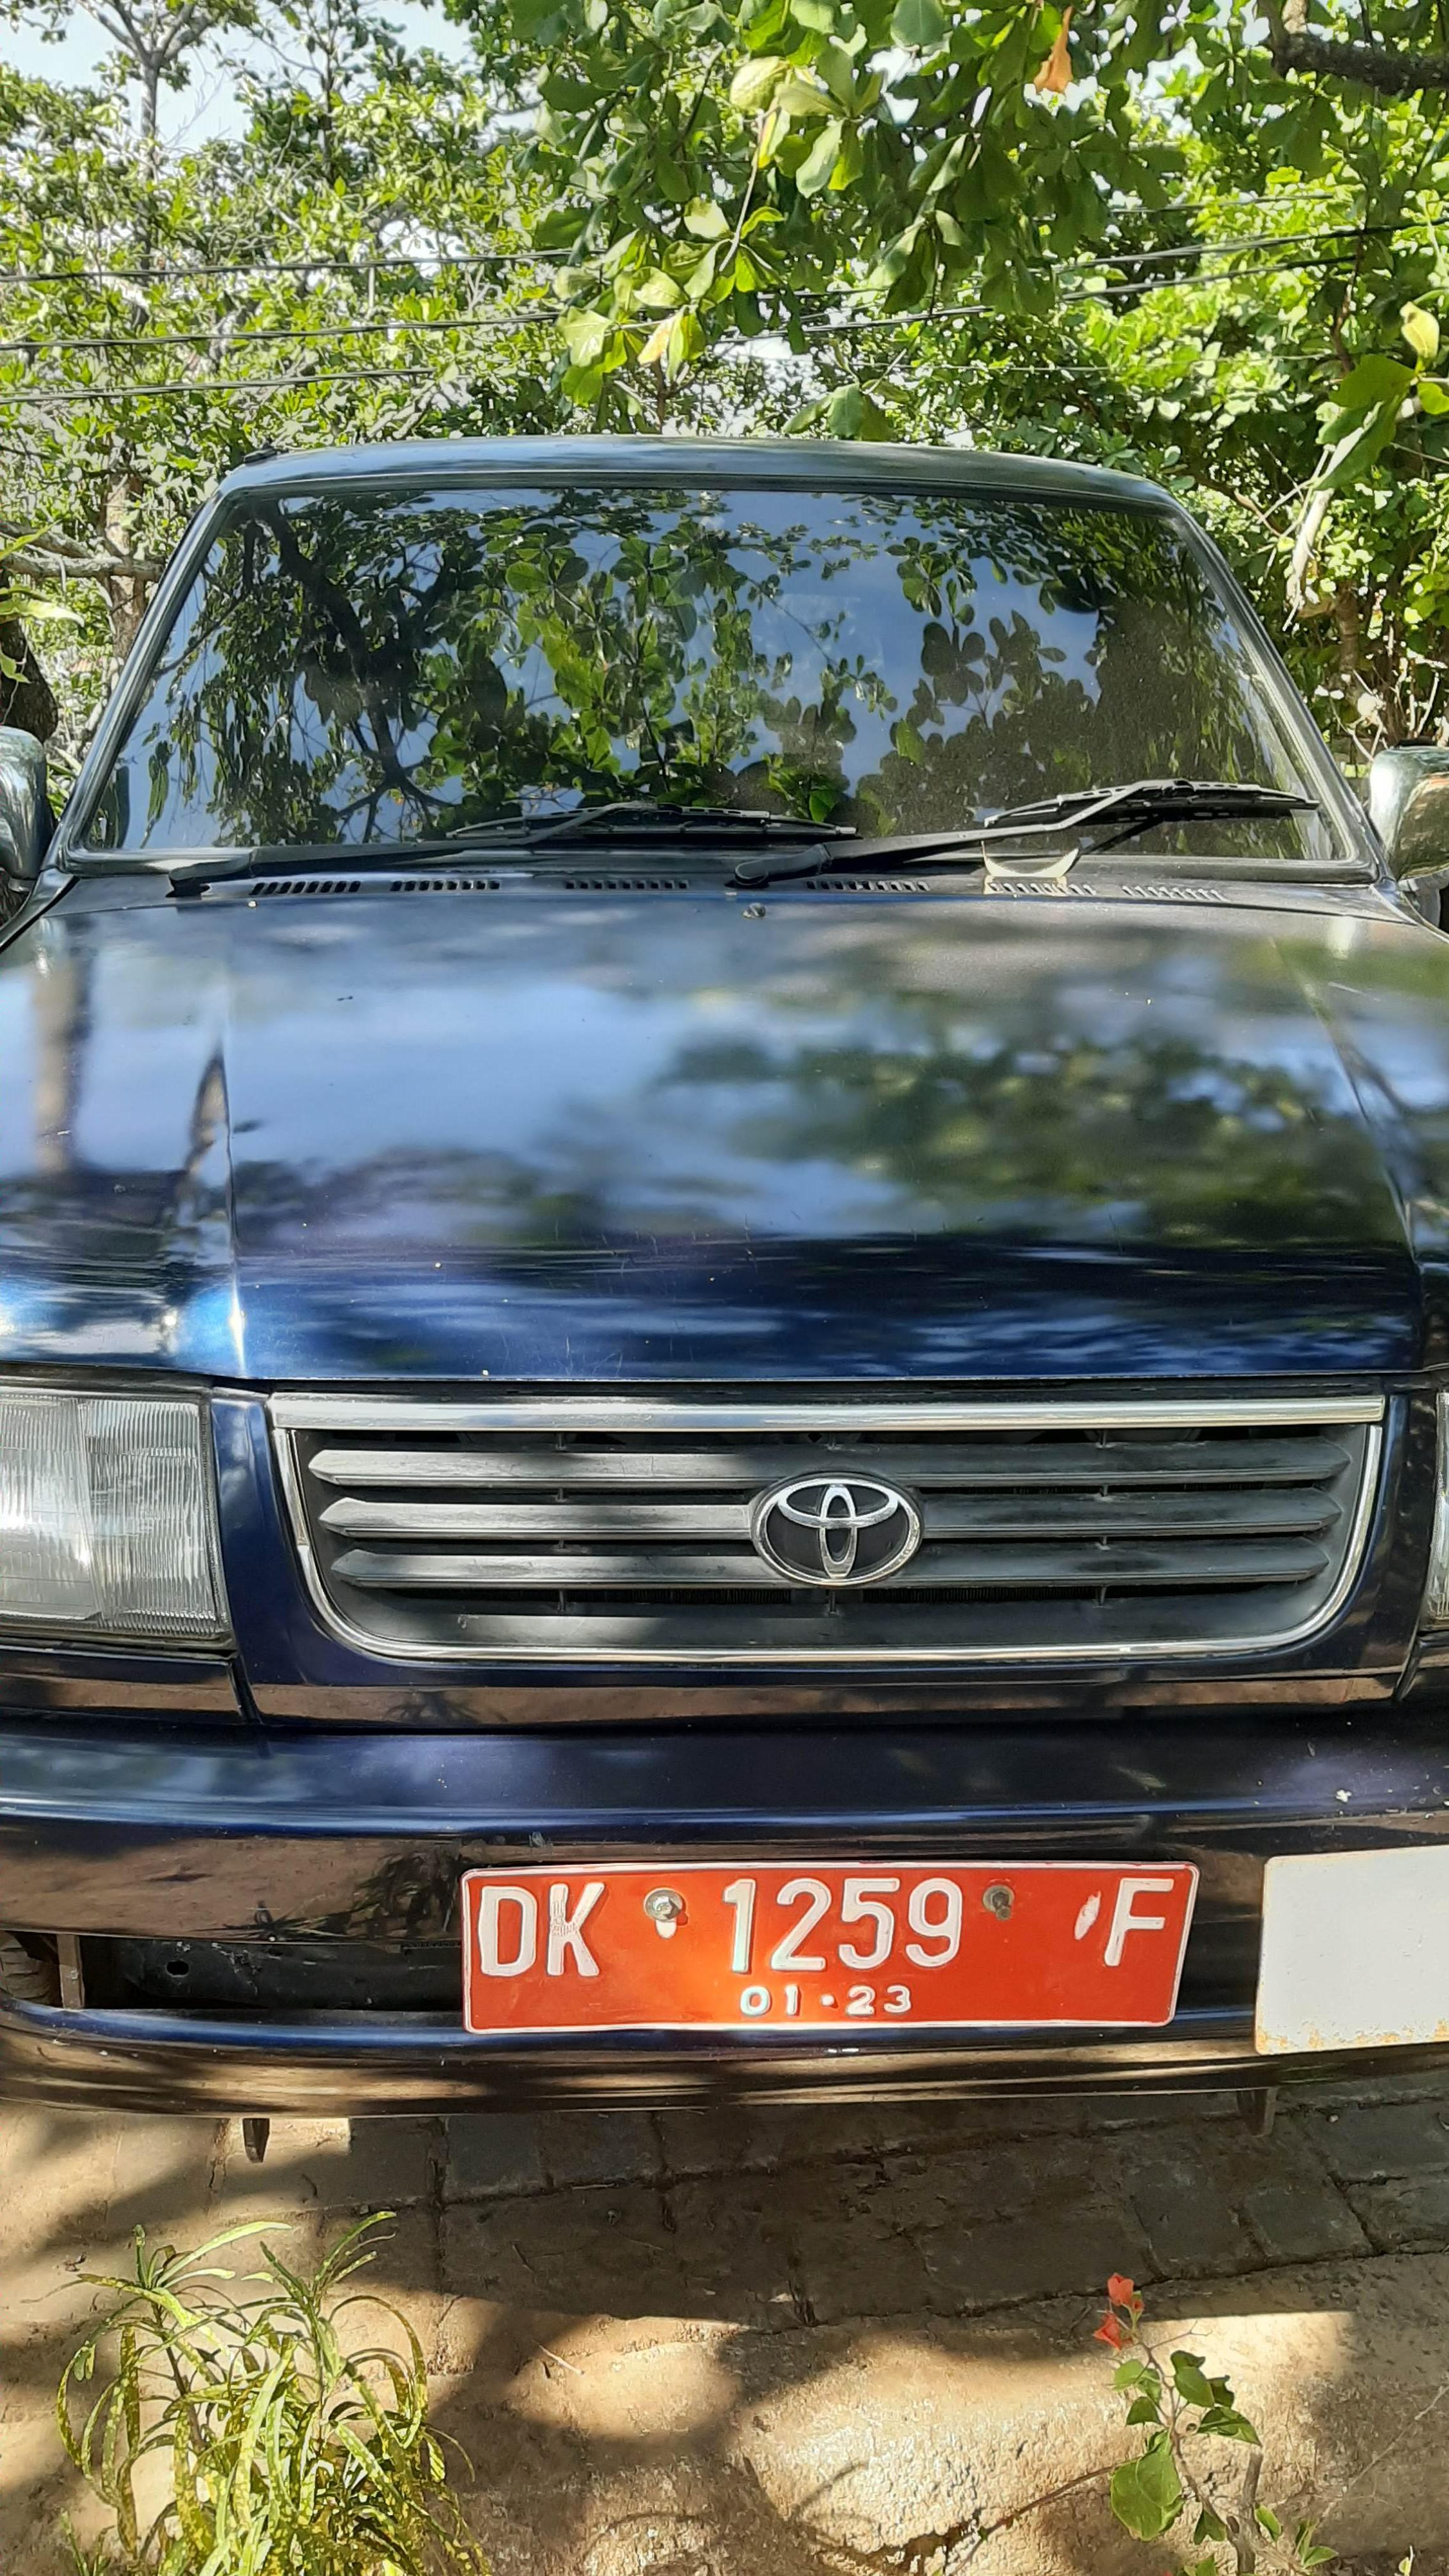plate: (461, 1860, 1183, 2035)
